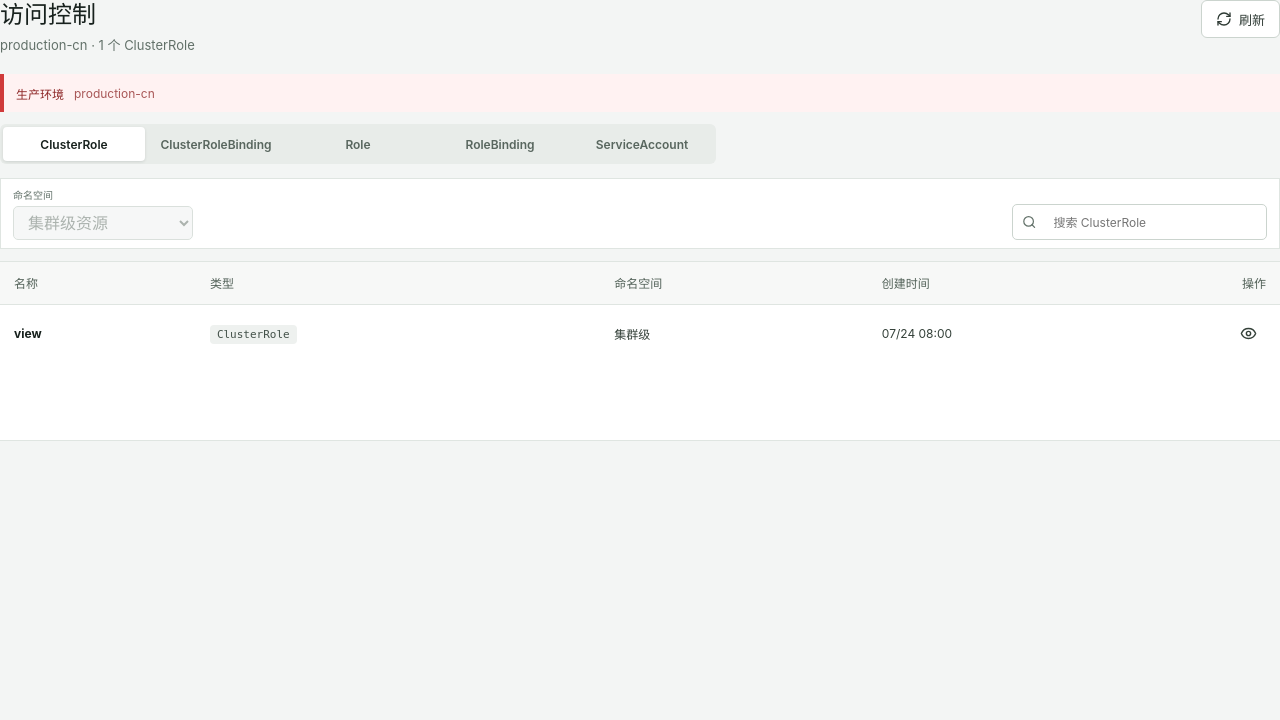
Scenario: AccessPage › fetches a single bounded detail only after explicit inspection
Expected: the text "view" is shown, [14,326,42,341]
Step 1. Click the button named "查看 view" → (1248, 334), box [1230,316,1266,352]
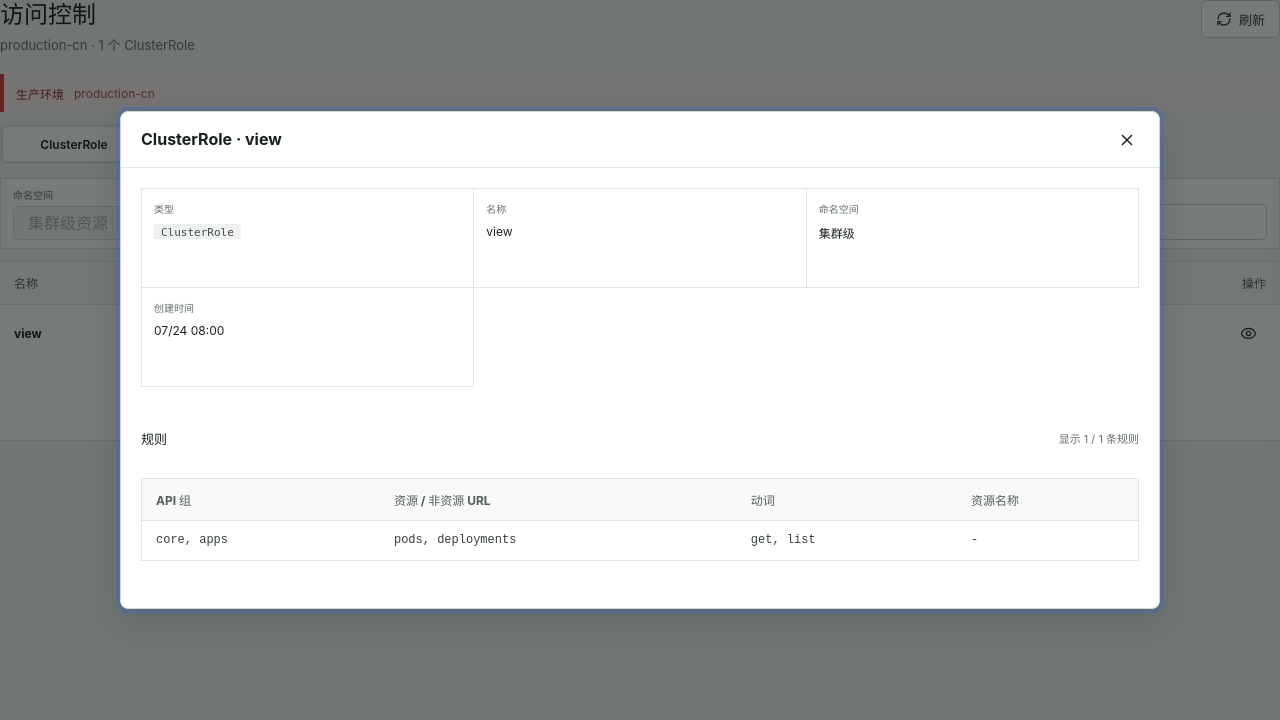
Expected: the dialog "ClusterRole · view" shows "pods, deployments", [394,533,516,547]
Expected: the dialog "ClusterRole · view" shows "get, list", [751,533,816,547]
Expected: the dialog "ClusterRole · view" shows "显示 1 / 1 条规则", [120,111,1160,609]
